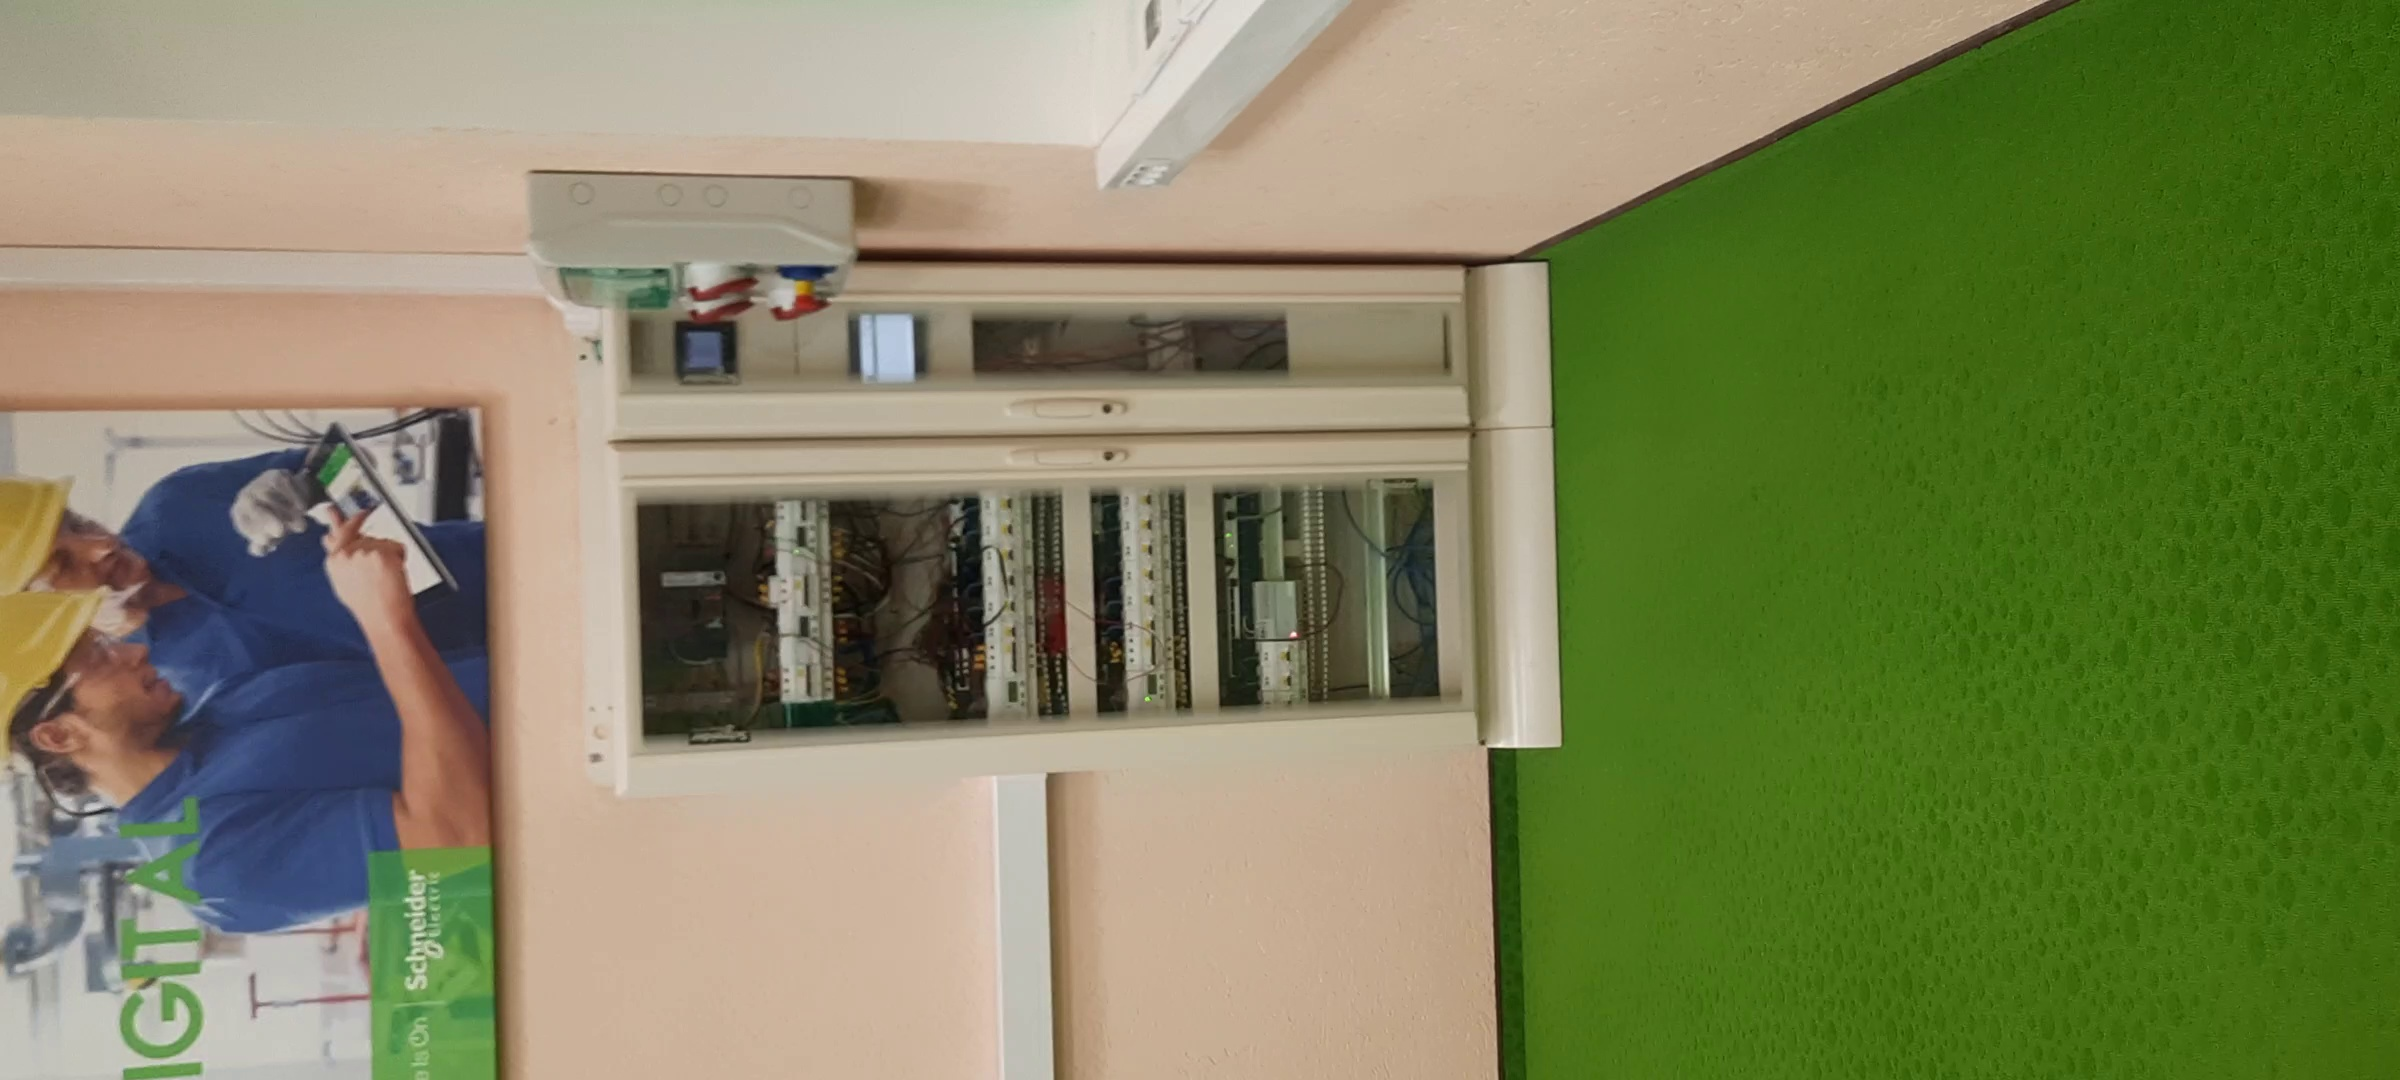stand1: (595, 269, 1544, 765)
